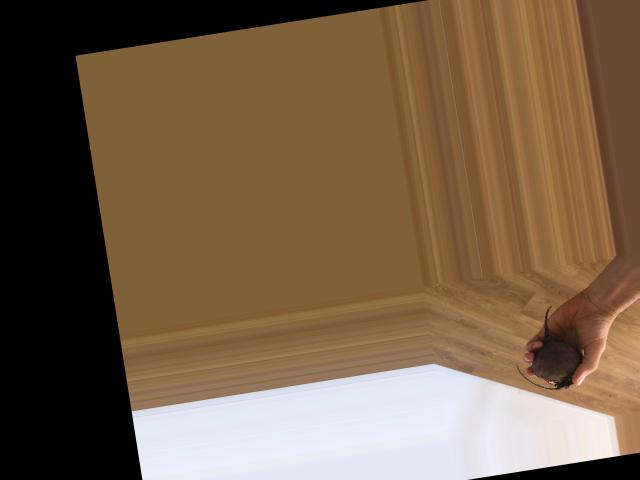beet: (507, 302, 586, 396)
